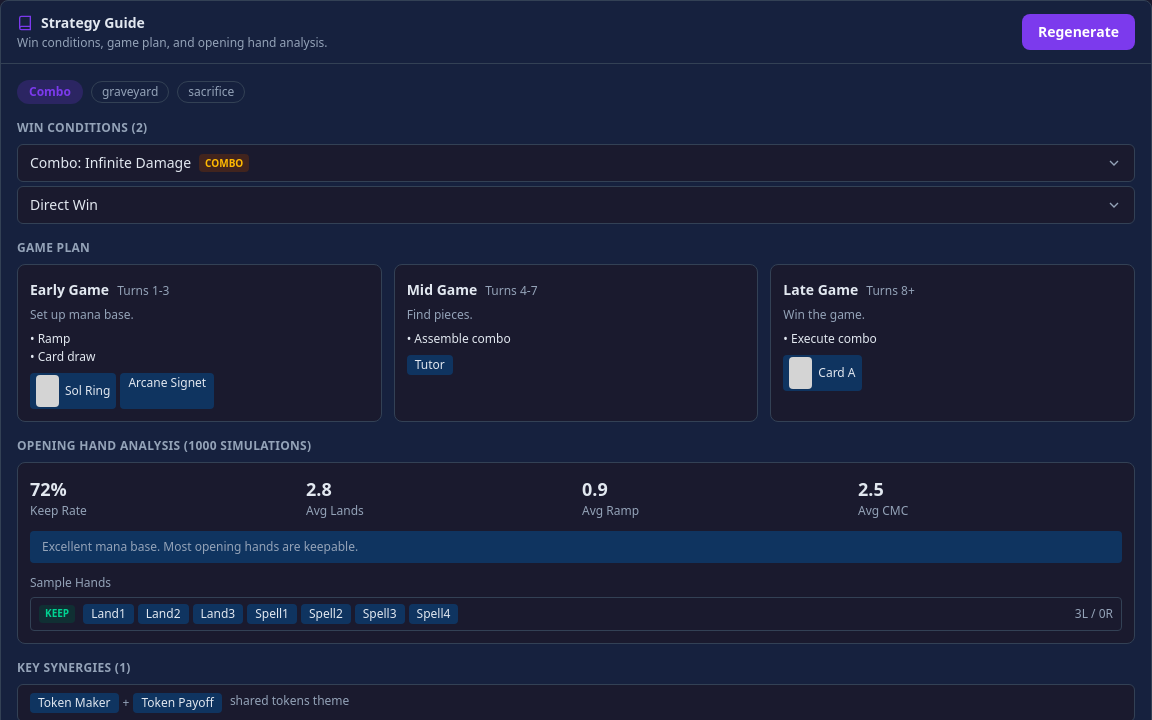
Scenario: StrategyGuide › closes lightbox on backdrop click
The image size is (1152, 720).
Note: Open lightbox
Click the button with aria-label "view sol ring" at (73, 391), box [30,373,116,409]
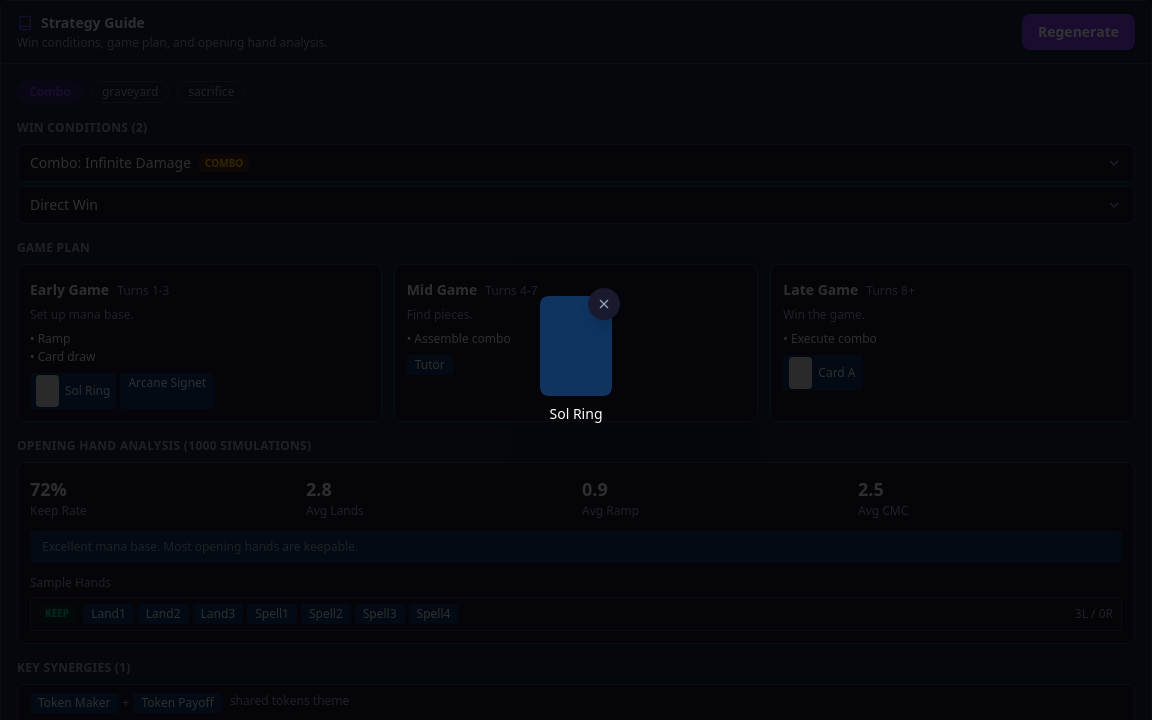
Check: the dialog is shown
Note: Click backdrop (the dialog overlay itself)
Click the dialog at (69, 360), box [0,0,1151,719]
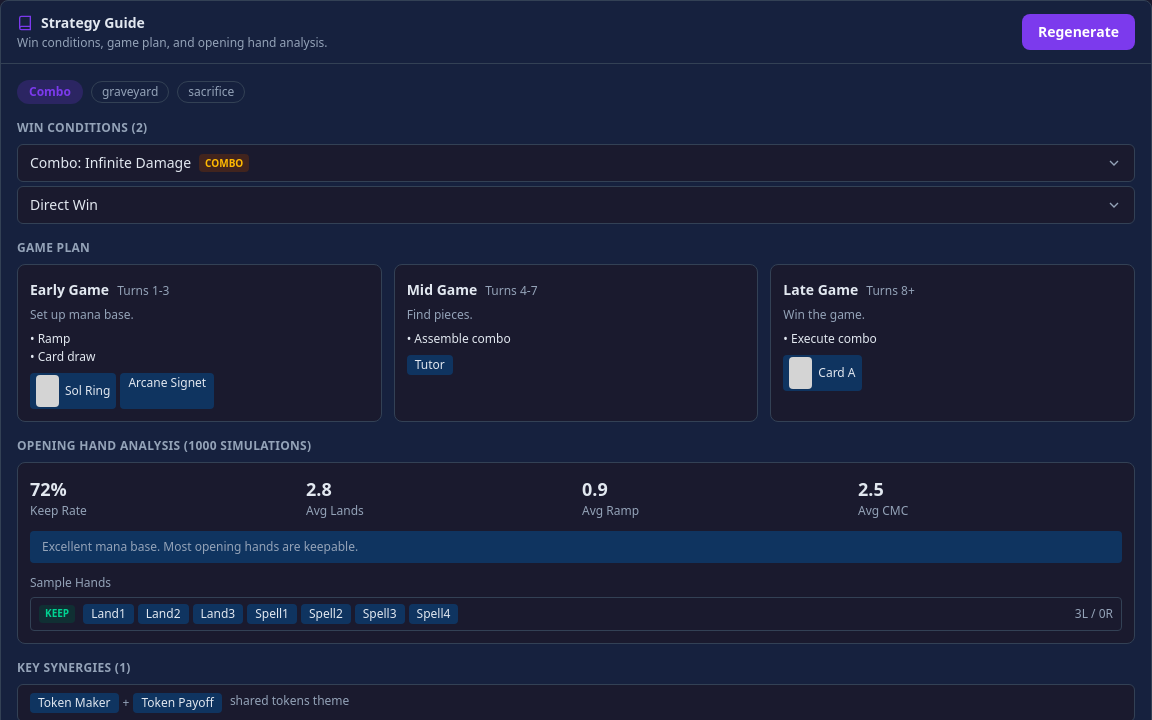
Check: the dialog is gone
